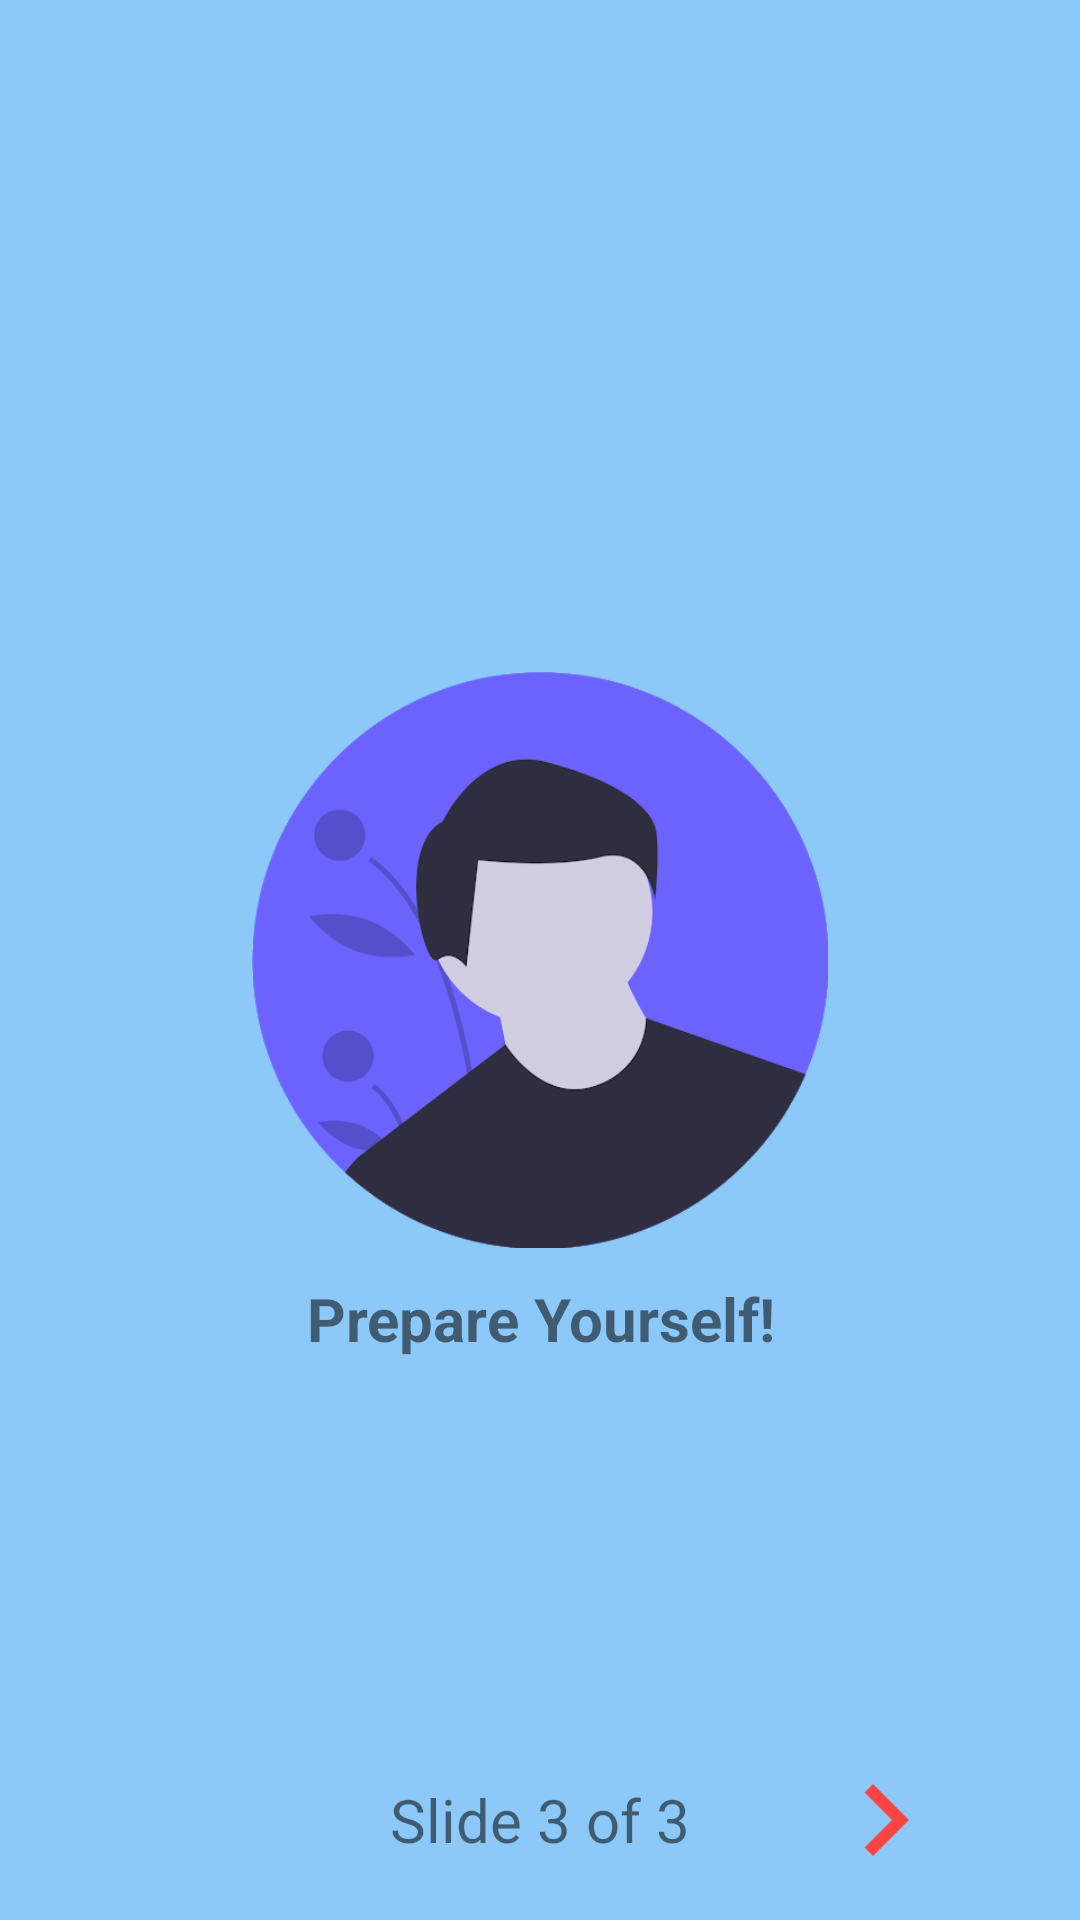

Locate icon controls on the screen. Image size 1080 x 1920, boxes as (x1,y1,x2,y2).
Next slide: (864,1784,909,1856)
